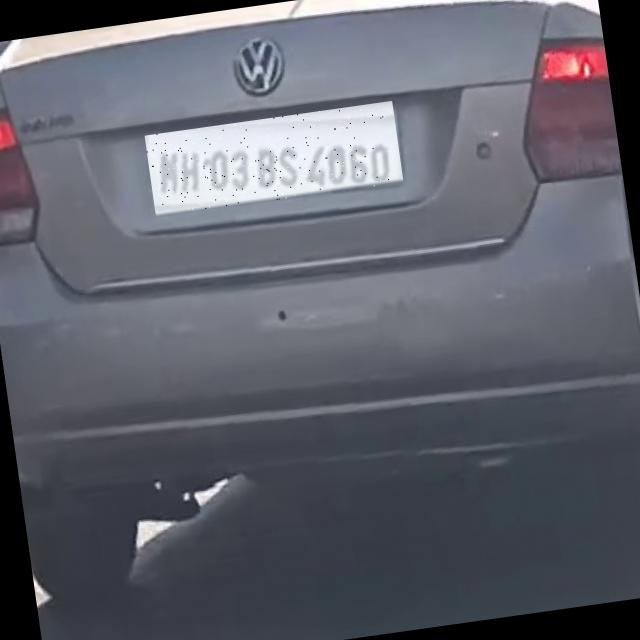Plate: (146, 102, 405, 218)
